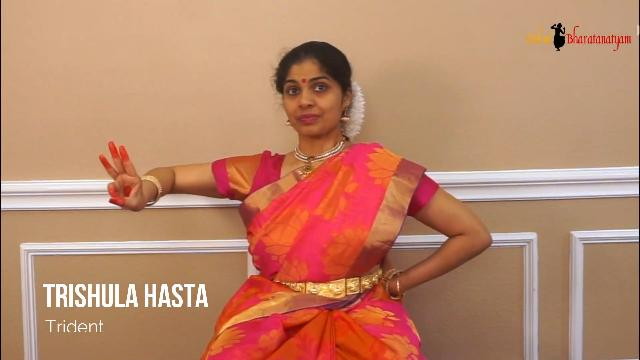trishool: (71, 130, 157, 236)
